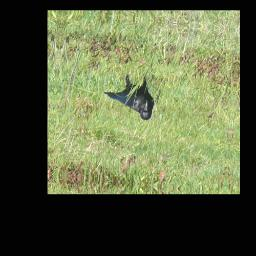Crow: (100, 68, 157, 121)
